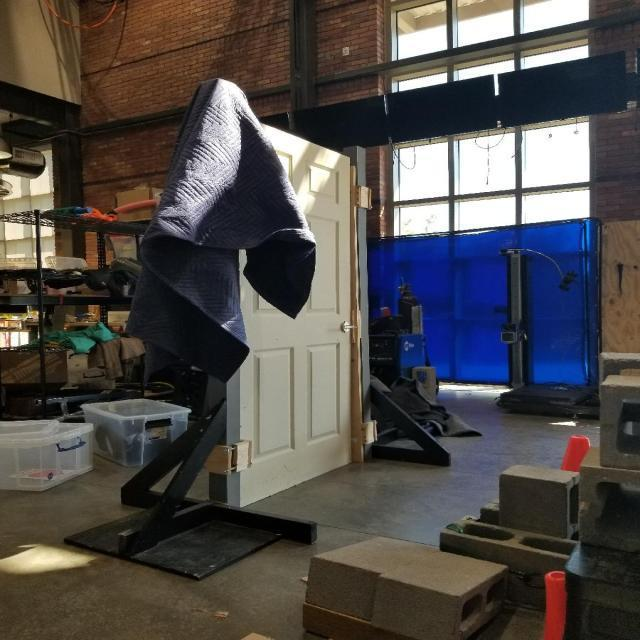door: (228, 114, 358, 508), (336, 320, 361, 336)
